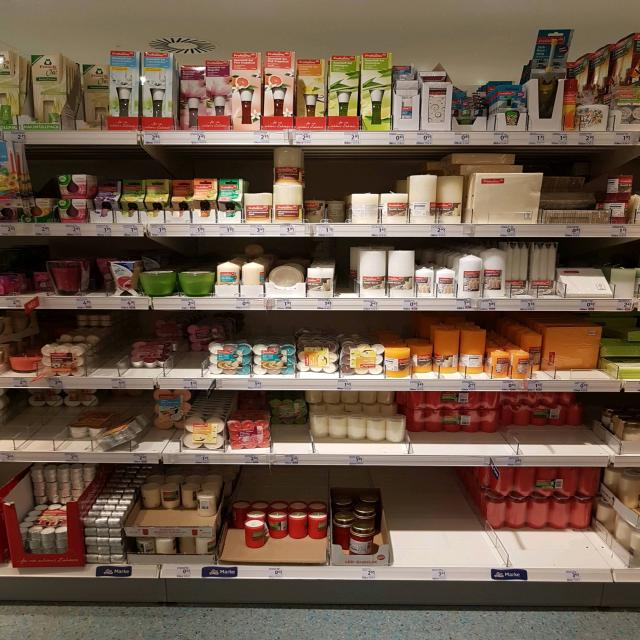void: (462, 464, 490, 568), (431, 465, 457, 567), (378, 466, 400, 568), (404, 465, 426, 564)
